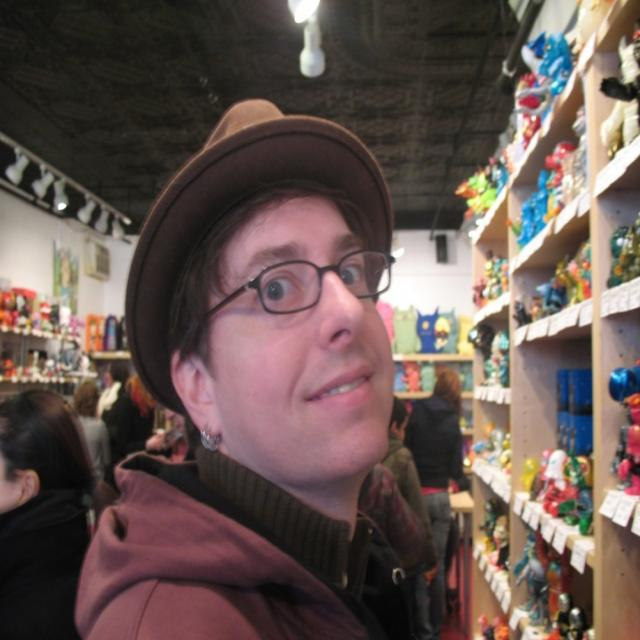Glasses: (195, 246, 392, 324)
